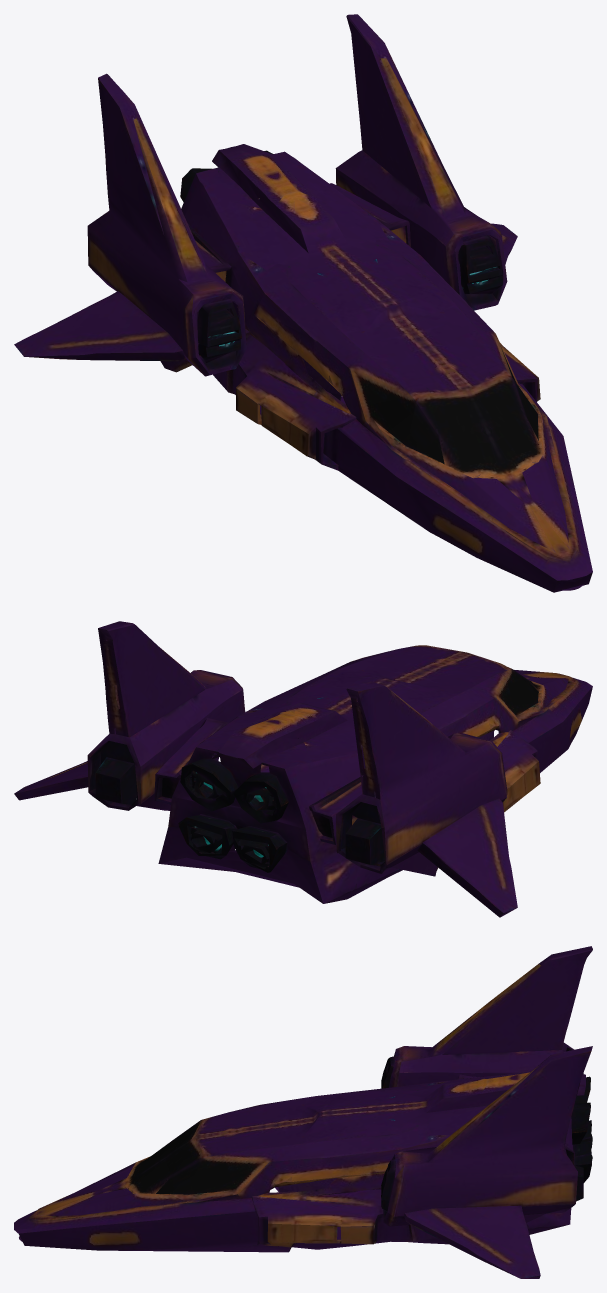
File: ship.glb
3 renders of one model, top to bottom at view 1: azimuth 30°, elevation 25°; view 2: azimuth 150°, elevation 25°; view 3: azimuth 270°, elevation 25°, orthographic. The views are drawn at different scales.
Visible parts, largest first — view 1: world; view 2: world; view 3: world.
Part boxes in pixels (x1=…): world: x1=14, y1=14, x2=592, y2=592; world: x1=14, y1=621, x2=592, y2=917; world: x1=14, y1=946, x2=592, y2=1278.
Bounding box in the file's own units: 0.8134 × 0.46 × 1.
Materials: 1 (1 with a texture image).
